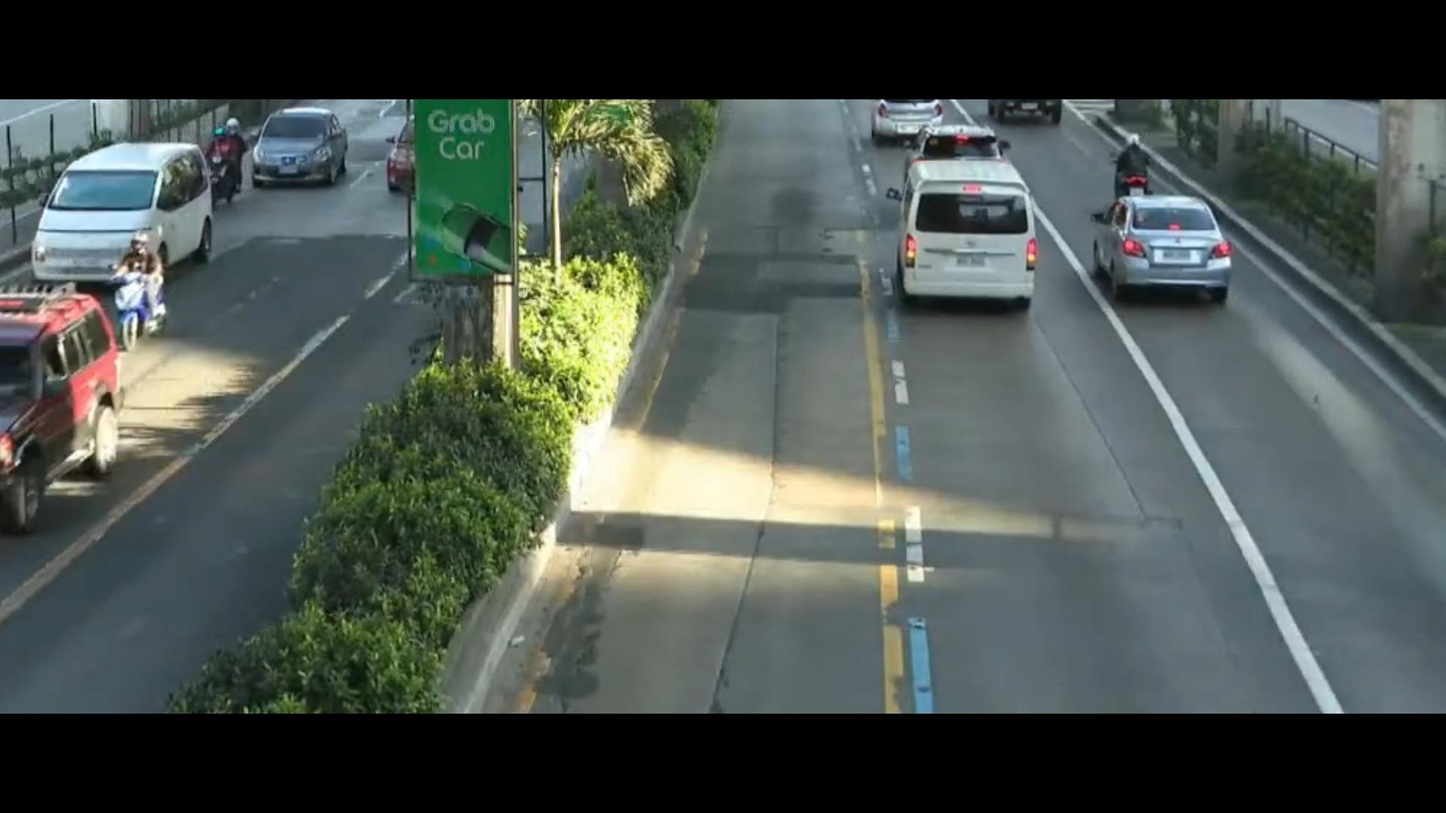Motorcycle: (99, 228, 179, 336), (1099, 121, 1177, 197), (200, 121, 245, 208)
SUV: (0, 275, 140, 563)
Sedan: (1082, 181, 1245, 300), (245, 98, 364, 203)
Van: (43, 126, 228, 286), (900, 149, 1053, 340)
